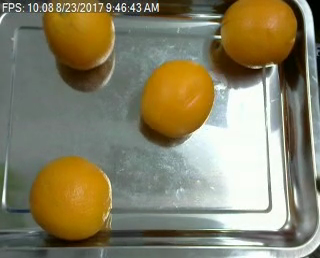Orange: (30, 155, 113, 239), (141, 58, 215, 136), (220, 1, 297, 68), (42, 11, 114, 69)
